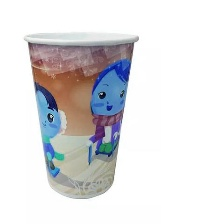paper_cup: (19, 27, 142, 202)
